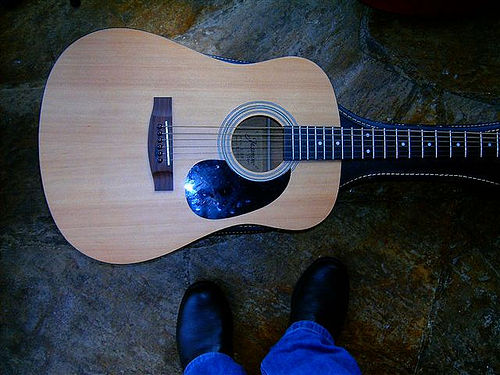guitar: (37, 26, 500, 267)
